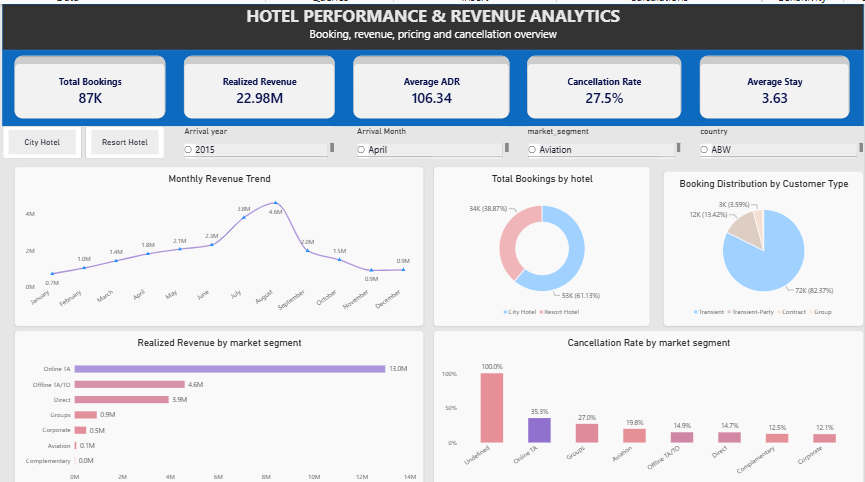

The page's visual inventory and layout, read from the dashboard file:
{"tool":"powerbi","page":{"name":"Dashboard 1","canvas":[1920,1080],"ordinal":0},"visuals":[{"type":"shape","box":[9.8,0,1909.6,102.4],"z":0},{"type":"shape","box":[9.8,102.4,1909.6,168.3],"z":1000},{"type":"cardVisual","fields":{"Data":["Measure Table.Realized Revenue"]},"box":[411.5,114.6,334.1,139],"z":2000},{"type":"cardVisual","fields":{"Data":["Measure Table.Total Bookings"]},"box":[36.6,114.6,334.1,139],"z":3000},{"type":"cardVisual","fields":{"Data":["Measure Table.Average ADR"]},"box":[786.5,114.6,346.3,139],"z":4000},{"type":"cardVisual","fields":{"Data":["Measure Table.Cancellation Rate"]},"box":[1173.7,114.6,341.4,139],"z":5000},{"type":"cardVisual","fields":{"Data":["Measure Table.Average Stay"]},"box":[1555.9,114.6,331.7,139],"z":6000},{"type":"textbox","box":[9.8,0,1909.6,102.4],"z":7000},{"type":"advancedSlicerVisual","title":"Hotel Type","fields":{"Values":["hotel_bookings.hotel"]},"box":[9.8,270.7,360.9,73.2],"z":8000},{"type":"listSlicer","title":"Arrival year","fields":{"Values":["hotel_bookings.arrival_date_year"]},"box":[412.2,270.7,334.1,73.2],"z":9000},{"type":"listSlicer","title":"Arrival Month","fields":{"Values":["hotel_bookings.arrival_date_month"]},"box":[795,270.7,339,73.2],"z":10000},{"type":"listSlicer","fields":{"Values":["hotel_bookings.market_segment"]},"box":[1173.1,270.7,341.4,73.2],"z":11000},{"type":"listSlicer","fields":{"Values":["hotel_bookings.country"]},"box":[1555.9,270.7,363.4,73.2],"z":12000},{"type":"lineChart","title":"Monthly Revenue Trend","fields":{"Category":["hotel_bookings.Arrival Date.Variation.Date Hierarchy.Month"],"Y":["Measure Table.Realized Revenue"]},"box":[36.6,360.9,907.2,353.6],"z":13000},{"type":"donutChart","fields":{"Category":["hotel_bookings.hotel"],"Y":["Measure Table.Total Bookings"]},"box":[965.8,360.9,480.4,353.6],"z":14000},{"type":"clusteredBarChart","title":"Realized Revenue by market segment","fields":{"Category":["hotel_bookings.market_segment"],"Y":["Measure Table.Realized Revenue"]},"box":[36.6,724.3,907.2,356.1],"z":15000},{"type":"pieChart","title":"Booking Distribution by Customer Type","fields":{"Category":["hotel_bookings.customer_type"],"Y":["Measure Table.Total Bookings"]},"box":[1475.5,370.7,443.9,343.9],"z":16000},{"type":"clusteredColumnChart","title":"Cancellation Rate by market segment","fields":{"Category":["hotel_bookings.market_segment"],"Y":["Measure Table.Cancellation Rate"]},"box":[965.8,724.3,953.6,356.1],"z":17000}]}

Visuals, with their boxes in screenshot pixels (x1, y1, x2, y2), scaled from the page's 1920x1080 canvas onto the 865x482 screenshot:
shape: {"left": 4, "top": 0, "right": 864, "bottom": 46}
shape: {"left": 4, "top": 46, "right": 864, "bottom": 121}
cardVisual - Measure Table.Realized Revenue: {"left": 185, "top": 51, "right": 336, "bottom": 113}
cardVisual - Measure Table.Total Bookings: {"left": 16, "top": 51, "right": 167, "bottom": 113}
cardVisual - Measure Table.Average ADR: {"left": 354, "top": 51, "right": 510, "bottom": 113}
cardVisual - Measure Table.Cancellation Rate: {"left": 529, "top": 51, "right": 683, "bottom": 113}
cardVisual - Measure Table.Average Stay: {"left": 701, "top": 51, "right": 850, "bottom": 113}
textbox: {"left": 4, "top": 0, "right": 864, "bottom": 46}
"Hotel Type" advancedSlicerVisual: {"left": 4, "top": 121, "right": 167, "bottom": 153}
"Arrival year" listSlicer: {"left": 186, "top": 121, "right": 336, "bottom": 153}
"Arrival Month" listSlicer: {"left": 358, "top": 121, "right": 511, "bottom": 153}
listSlicer - hotel_bookings.market_segment: {"left": 529, "top": 121, "right": 682, "bottom": 153}
listSlicer - hotel_bookings.country: {"left": 701, "top": 121, "right": 864, "bottom": 153}
"Monthly Revenue Trend" lineChart: {"left": 16, "top": 161, "right": 425, "bottom": 319}
donutChart - hotel_bookings.hotel x Measure Table.Total Bookings: {"left": 435, "top": 161, "right": 652, "bottom": 319}
"Realized Revenue by market segment" clusteredBarChart: {"left": 16, "top": 323, "right": 425, "bottom": 481}
"Booking Distribution by Customer Type" pieChart: {"left": 665, "top": 165, "right": 864, "bottom": 319}
"Cancellation Rate by market segment" clusteredColumnChart: {"left": 435, "top": 323, "right": 864, "bottom": 481}
